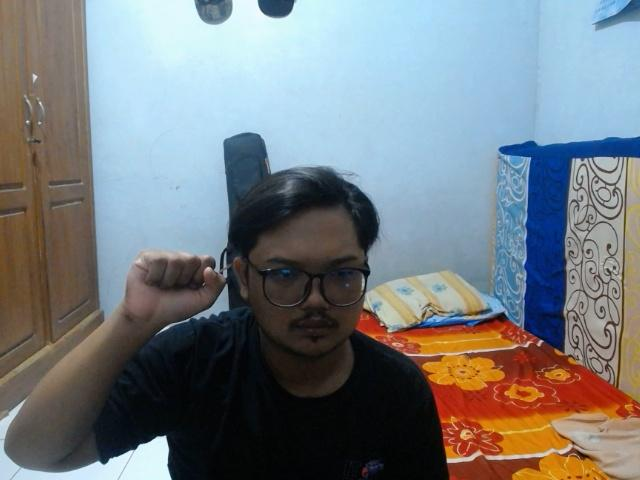Grab: (119, 243, 229, 334)
